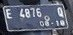plate: (2, 5, 68, 30)
